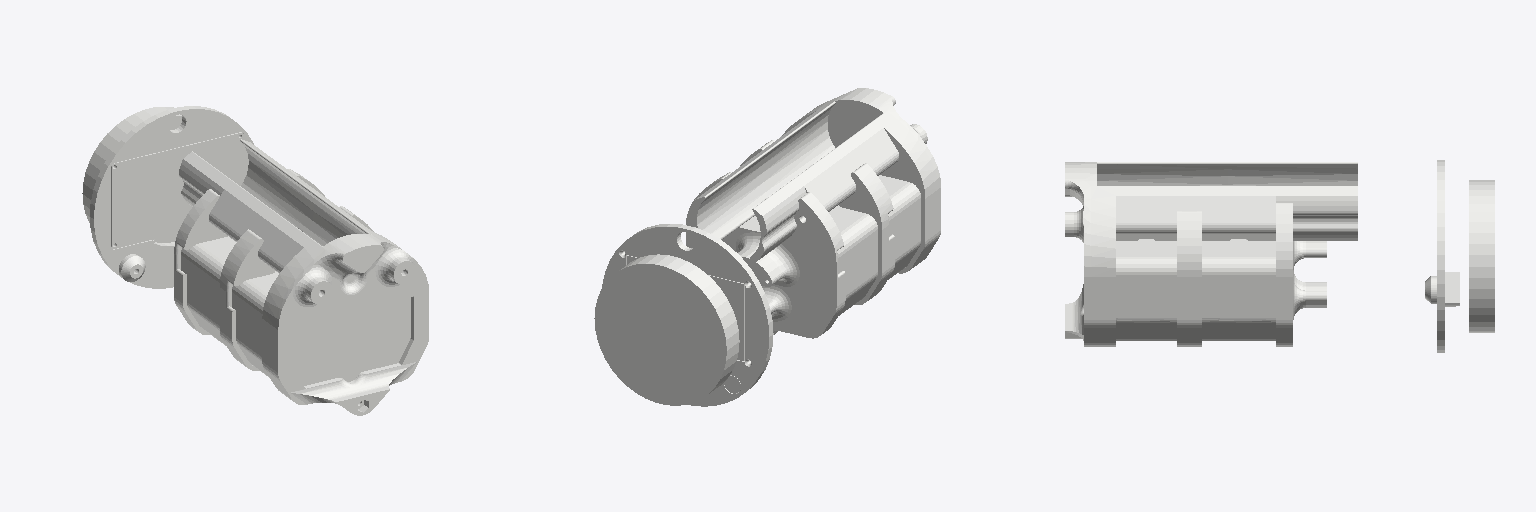
File: combined_mesh.obj
The picture shows the model from 3 angles: view 1: azimuth 30°, elevation 25°; view 2: azimuth 150°, elevation 25°; view 3: azimuth 270°, elevation 25°; orthographic projection.
Bounding box in the file's own units: 0.152 × 0.152 × 0.337.